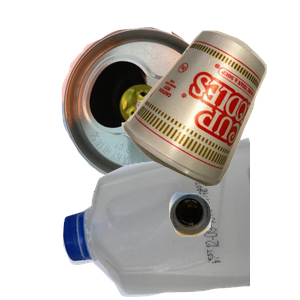glass: (166, 190, 300, 300)
metal: (59, 10, 273, 189)
plastic: (60, 135, 300, 300)
trash: (119, 28, 300, 207)
